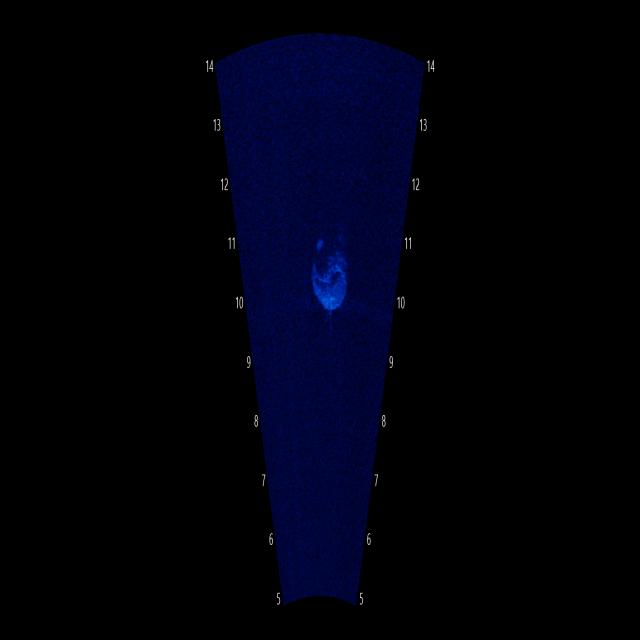circle: (303, 214, 357, 324)
